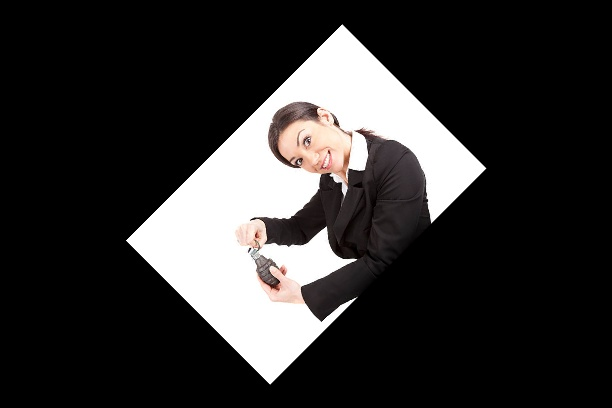e1: (244, 237, 287, 292)
